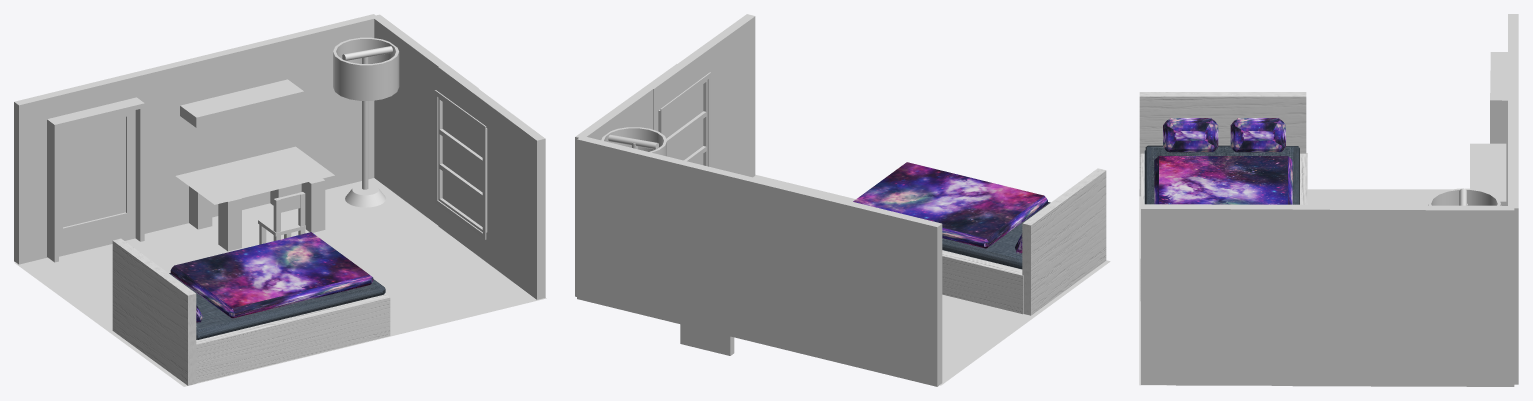
Rendered from zimmer.DAE.
3 views of the same model, side by side, from view 1: azimuth 30°, elevation 25°; view 2: azimuth 150°, elevation 25°; view 3: azimuth 270°, elevation 25° (orthographic). The views are drawn at different scales.
Visible parts, largest first — view 1: Plane001, Box002, Box001, PivotDoor001, Box009, Box012, Box003, Box010, Box011, ProjectedWindow001, Plane002, Tube001 (+8 smaller); view 2: Box002, Box001, Box009, Box012, Box011, Plane001, Box010, ProjectedWindow001, Box003, Box015, Box021, Tube001; view 3: Box003, Box009, Box012, Box011, Plane001, Box001, Box008, Box015, Box013, Box014, PivotDoor001, Box002 (+2 smaller).
Part boxes in pixels (box(x1,y1,x2,y2)): Plane001: box(14, 178, 546, 386); Box002: box(14, 53, 222, 264); Box001: box(201, 14, 377, 217); PivotDoor001: box(47, 97, 144, 262); Box009: box(438, 67, 545, 299); Box012: box(170, 232, 373, 318); Box003: box(374, 14, 478, 225); Box010: box(196, 293, 390, 382); Box011: box(112, 238, 196, 385); ProjectedWindow001: box(434, 90, 487, 239); Plane002: box(175, 146, 334, 204); Tube001: box(333, 37, 399, 100); Box002: box(733, 174, 942, 386); Box001: box(577, 136, 755, 341); Box009: box(646, 14, 755, 177); Box012: box(853, 162, 1047, 248); Box011: box(1022, 168, 1106, 315); Plane001: box(753, 174, 1110, 385); Box010: box(942, 250, 1023, 314); ProjectedWindow001: box(658, 72, 711, 166); Box003: box(575, 64, 684, 296); Box015: box(942, 202, 1050, 269); Box021: box(680, 324, 734, 355); Tube001: box(601, 127, 666, 156); Box003: box(1292, 205, 1514, 386); Box009: box(1141, 204, 1362, 385); Box012: box(1154, 156, 1292, 204); Box011: box(1139, 92, 1306, 196); Plane001: box(1139, 189, 1451, 385); Box001: box(1508, 114, 1518, 384); Box008: box(1470, 143, 1506, 205); Box015: box(1144, 145, 1299, 204); Box013: box(1163, 118, 1218, 152); Box014: box(1230, 118, 1285, 152); PivotDoor001: box(1490, 52, 1507, 205); Box002: box(1508, 14, 1518, 114).
Size of the model in its own units: 168 by 80.85 by 137.
